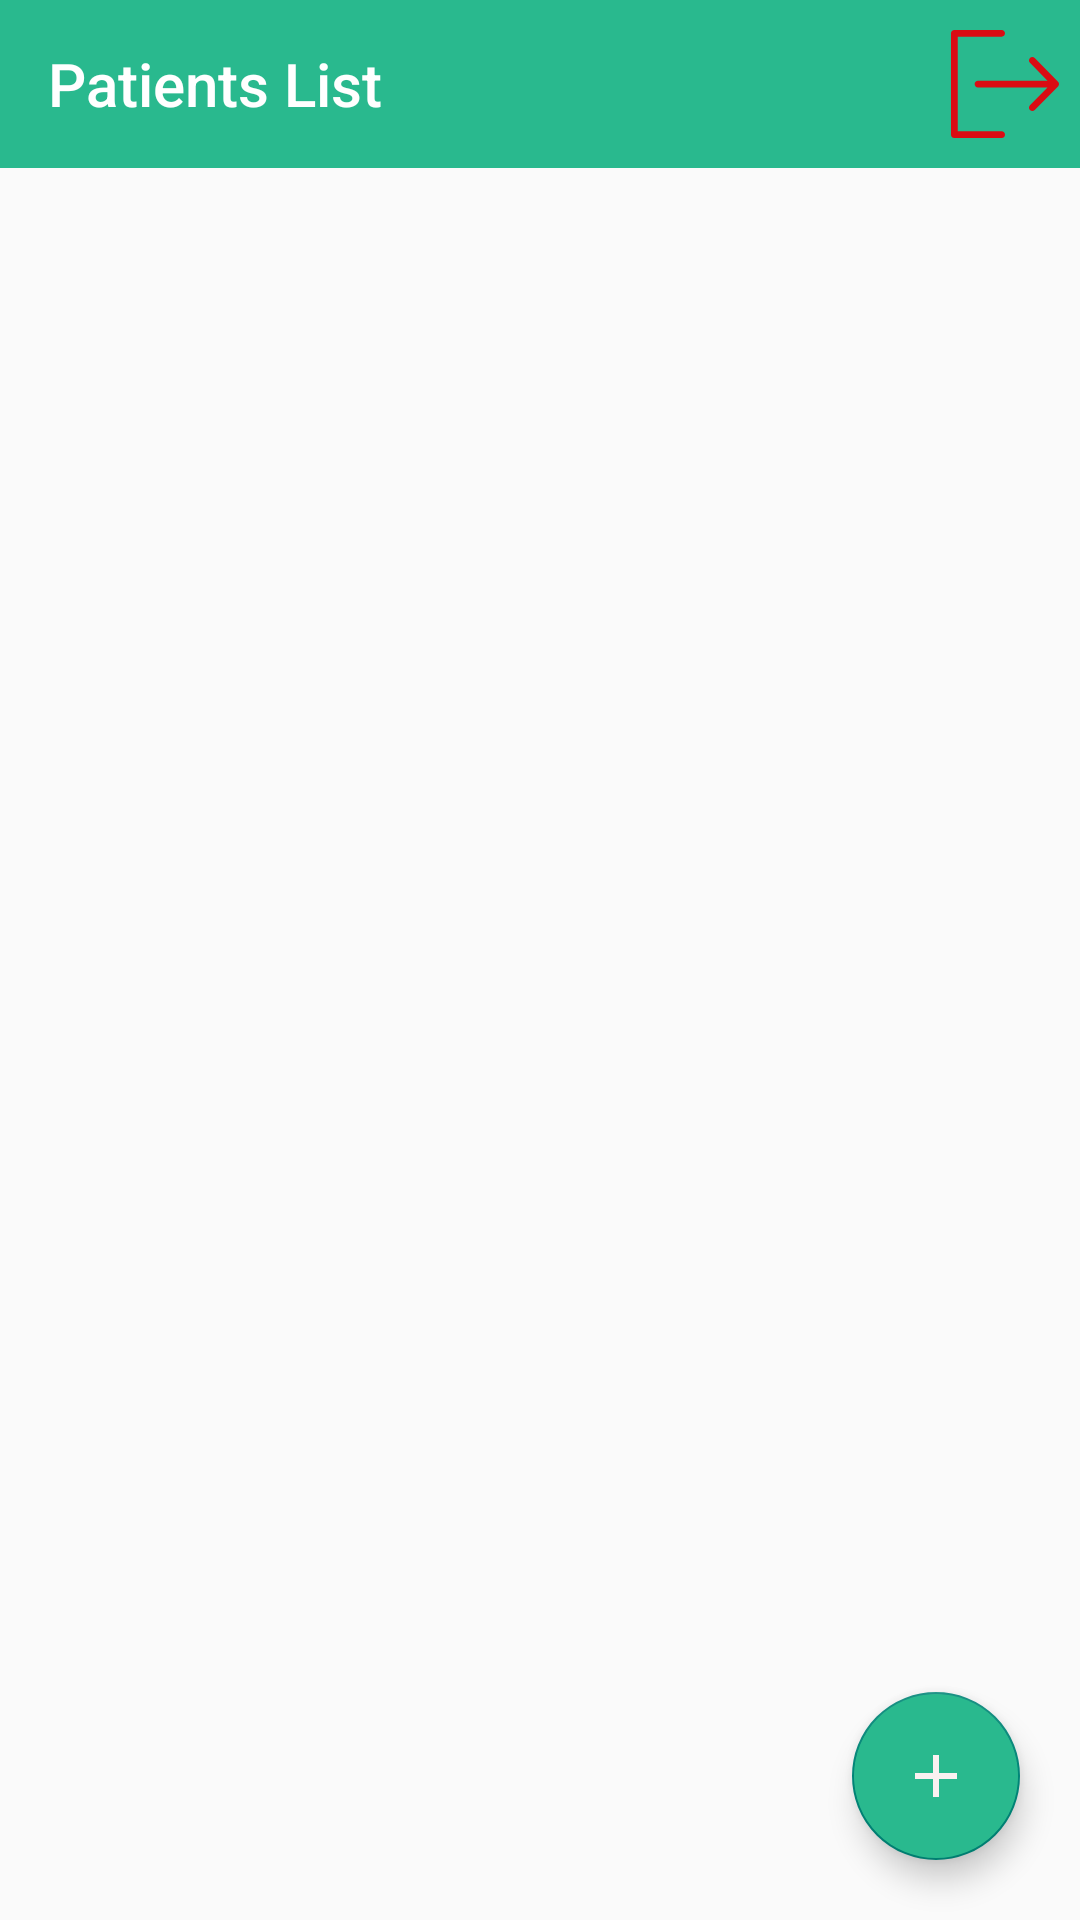

Named icons in this screenshot (1080 x 1920) and their centers, (x,y):
Add new patient: (936,1776)
